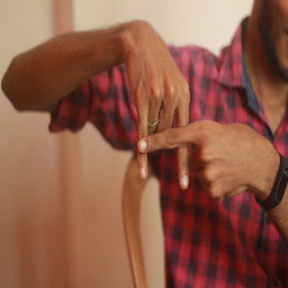H: (109, 71, 220, 194)
